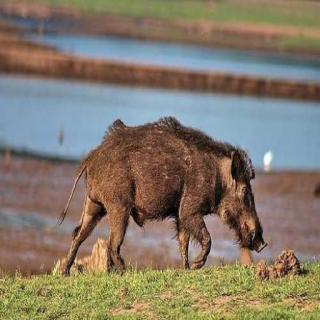Pig: (54, 104, 296, 273)
